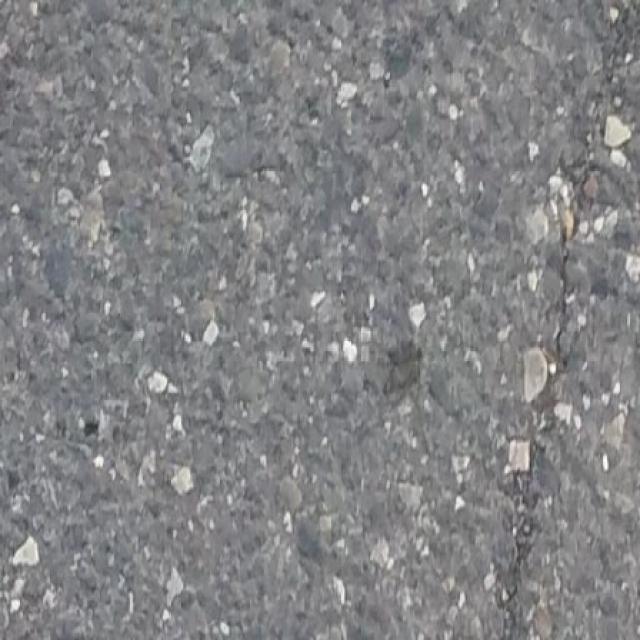Alligator Crack: (491, 4, 640, 634)
